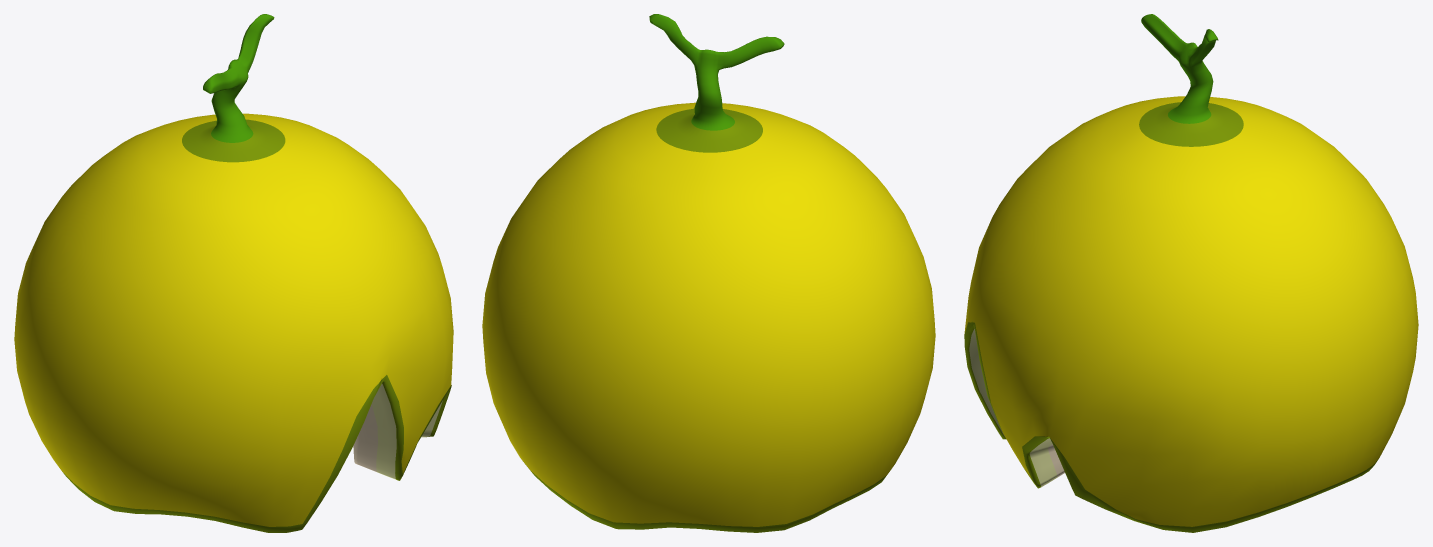
The model's file is melon_02.fbx.
3 views of the same model, side by side, from view 1: azimuth 30°, elevation 25°; view 2: azimuth 150°, elevation 25°; view 3: azimuth 270°, elevation 25° (orthographic). The views are drawn at different scales.
Parts seen in each view (by area): view 1: pSphere1; view 2: pSphere1; view 3: pSphere1.
Part boxes in pixels (x1,y1,x2,y2): pSphere1: (14,14,453,532); pSphere1: (482,14,935,532); pSphere1: (964,14,1418,532).
Size of the model in its own units: 2.2 by 2.38 by 2.21.
